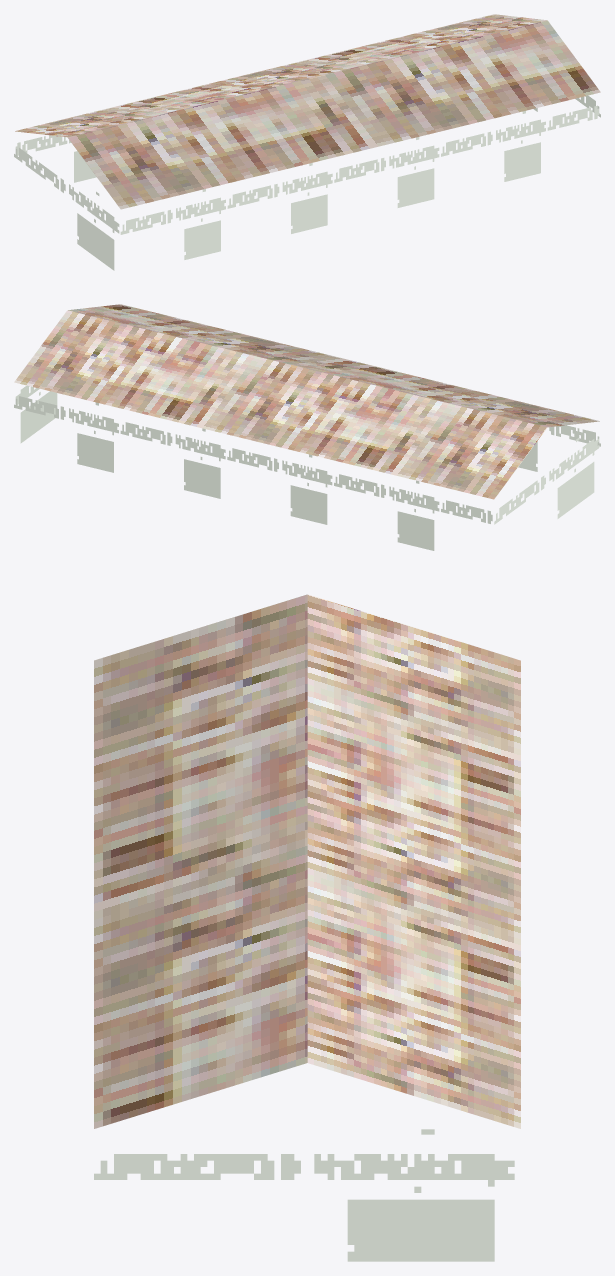
Rendered from uvmd-0129.glb.
The picture shows the model from 3 angles, top to bottom: view 1: azimuth 30°, elevation 25°; view 2: azimuth 150°, elevation 25°; view 3: azimuth 270°, elevation 25°; orthographic projection. The views are drawn at different scales.
Visible parts, largest first — view 1: uvmd-0129; view 2: uvmd-0129; view 3: uvmd-0129.
Part boxes in pixels (box(x1,y1,x2,y2)): uvmd-0129: box(14, 14, 600, 270); uvmd-0129: box(14, 304, 600, 550); uvmd-0129: box(94, 594, 520, 1261).
Size of the model in its own units: 410 by 81 by 158.
Materials: 2 (2 with a texture image).
